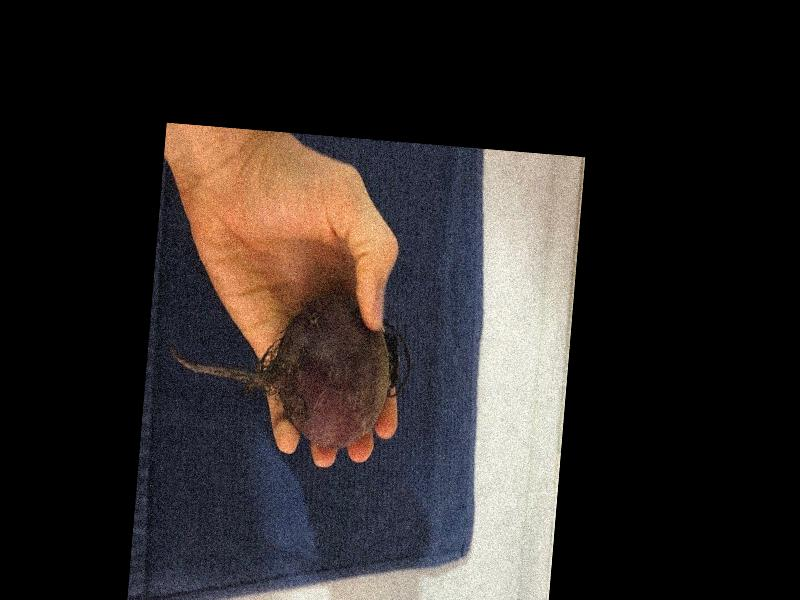Beet: (163, 281, 415, 455)
